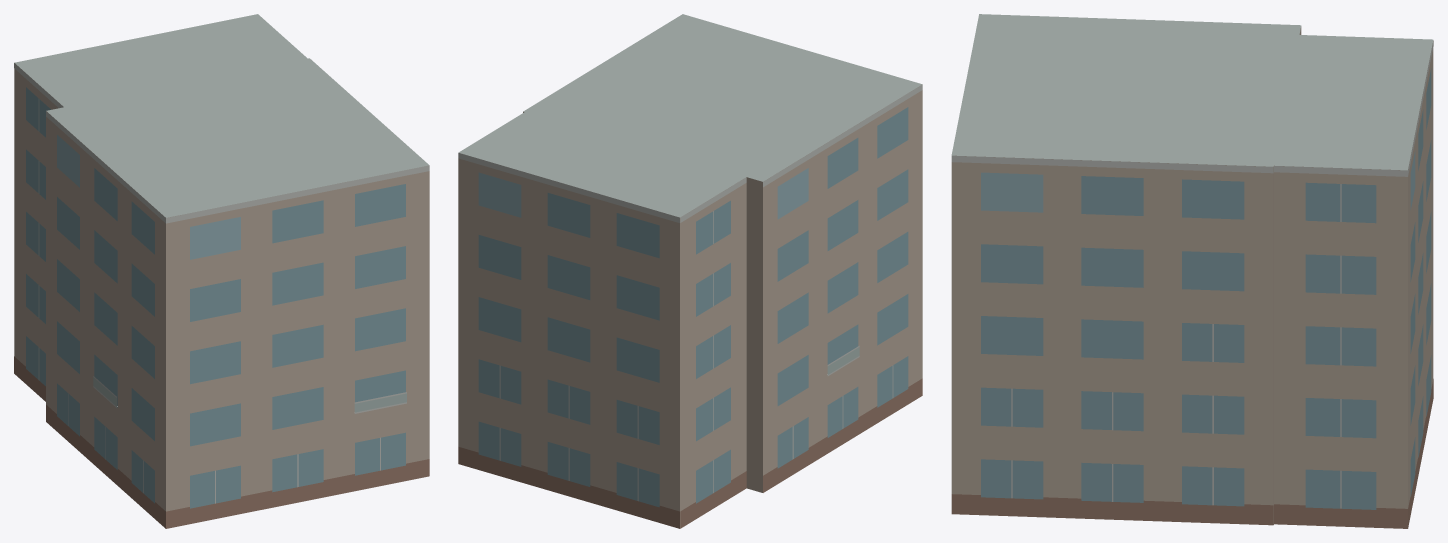
File: survey-upis-32870407.glb
The picture shows the model from 3 angles, left to right: view 1: azimuth 30°, elevation 25°; view 2: azimuth 150°, elevation 25°; view 3: azimuth 270°, elevation 25°; orthographic projection. The views are drawn at different scales.
Parts seen in each view (by area): view 1: survey-upis-32870407.tmp; view 2: survey-upis-32870407.tmp; view 3: survey-upis-32870407.tmp.
Part boxes in pixels (x1,y1,x2,y2): survey-upis-32870407.tmp: (14, 14, 429, 528); survey-upis-32870407.tmp: (458, 14, 922, 528); survey-upis-32870407.tmp: (951, 14, 1433, 528).
Bounding box in the file's own units: 12.54 × 13.4 × 16.34.
